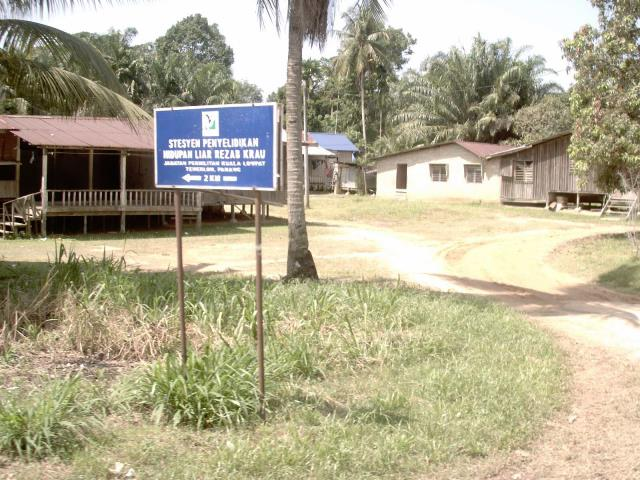ads_sign: (148, 94, 285, 197)
